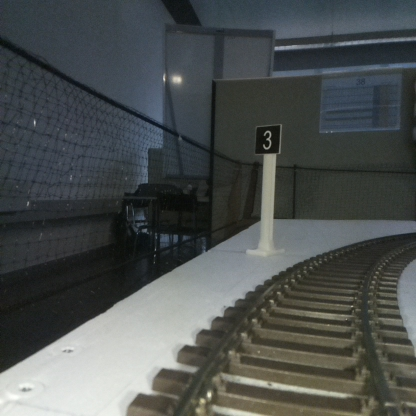black-info-3: (255, 125, 279, 254)
